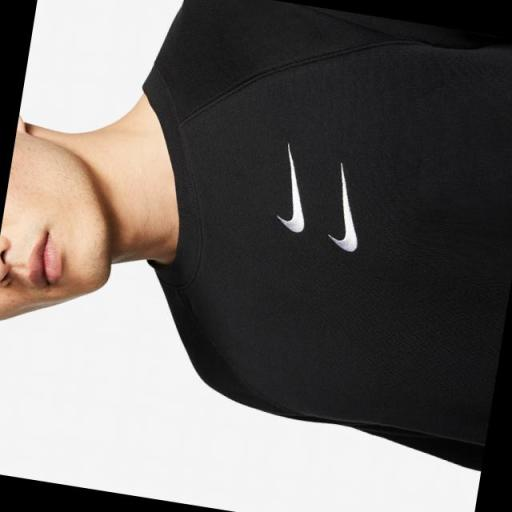Nike: (270, 137, 324, 241)
